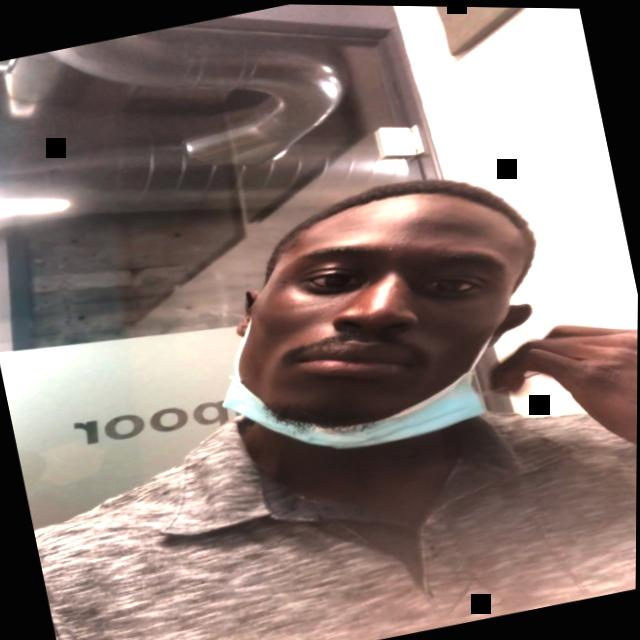NO-Mask: (216, 187, 529, 444)
